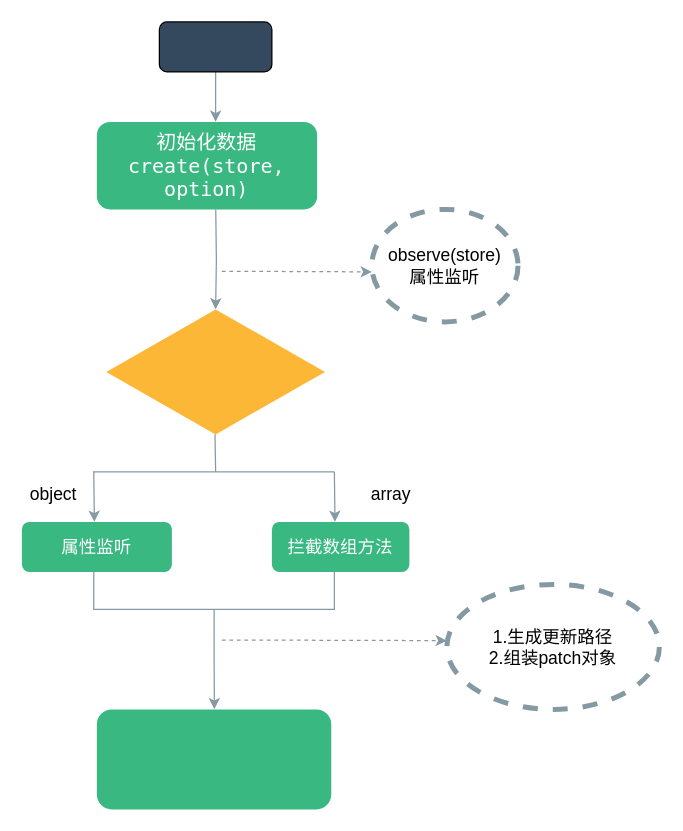
The diagram is 683 pixels wide and 831 high, and some of its shapes have lost their labels. The shapes that lost their labels are listed below. From the top down, each one's centre as x and y in pixels, then its label:
(215,46): store
(215,371): 监听的值为 Object还是Array
(213,759): setData(patch ) 局部更新视图
